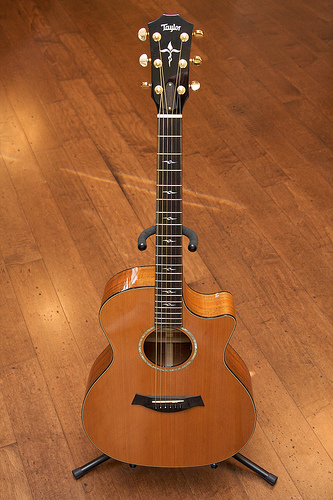guitar: (78, 15, 258, 469)
